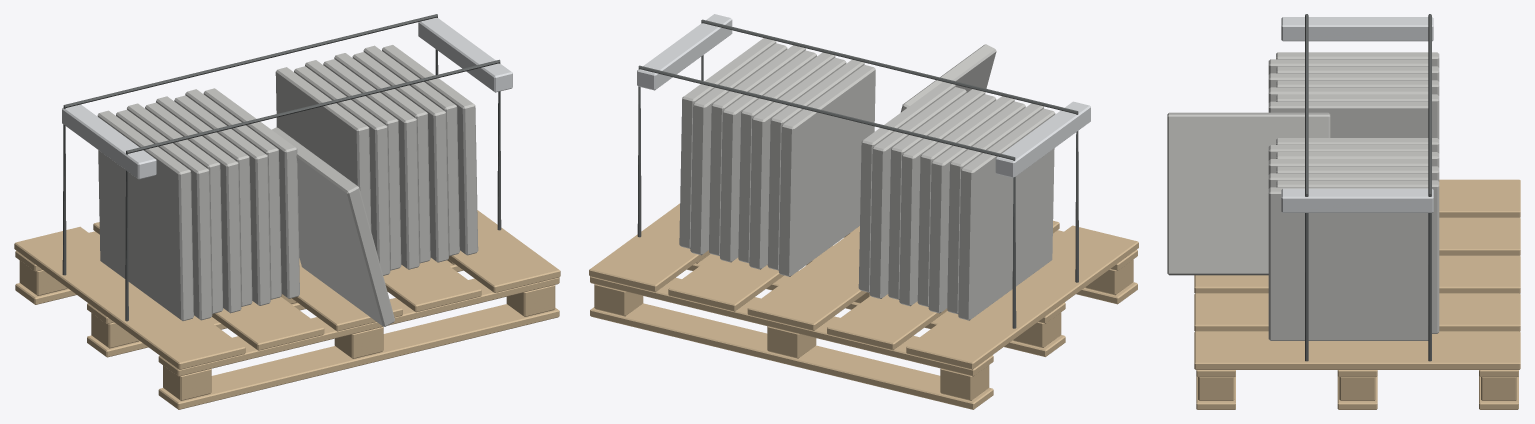
File: garden-centre-and-florist-paving-slab-pallet-fa292973__17788.glb
3 renders of one model, left to right at view 1: azimuth 30°, elevation 25°; view 2: azimuth 150°, elevation 25°; view 3: azimuth 270°, elevation 25°, orthographic. The views are drawn at different scales.
Parts seen in each view (by area): view 1: paving-slab-pallet; view 2: paving-slab-pallet; view 3: paving-slab-pallet.
Boxes of the visible parts, bbox=[...] form: paving-slab-pallet: bbox=[14, 14, 560, 409]; paving-slab-pallet: bbox=[589, 14, 1138, 409]; paving-slab-pallet: bbox=[1167, 14, 1520, 409].
Bounding box in the file's own units: 1.2 × 0.653 × 0.975.
